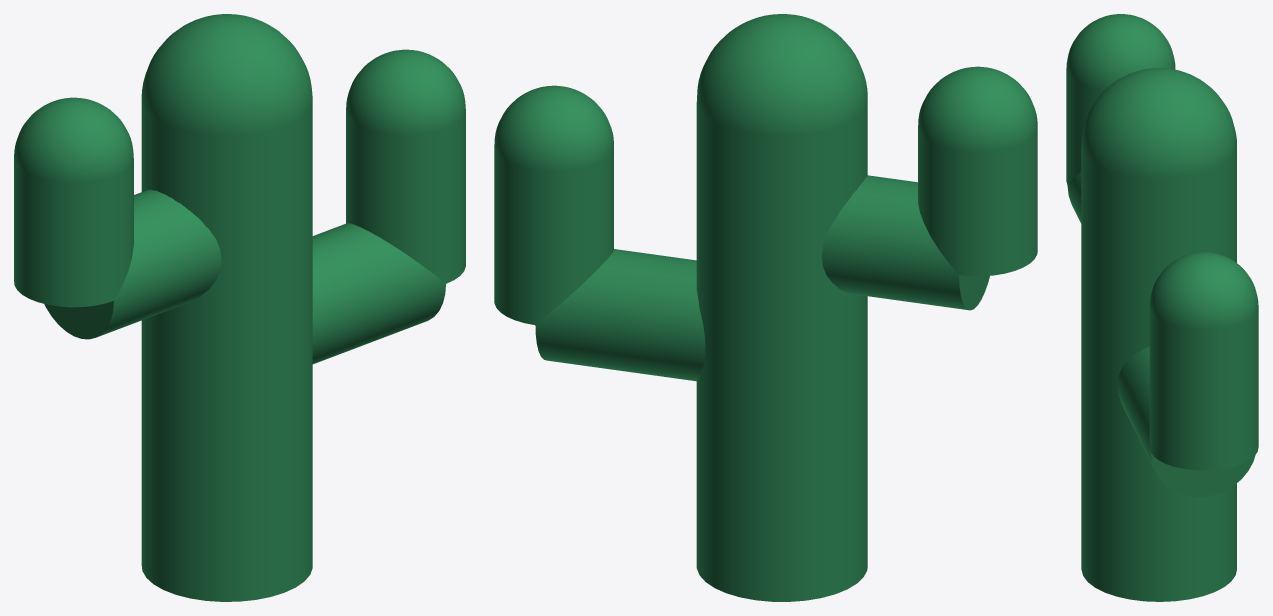
The model's file is cactus.glb.
3 views of the same model, side by side, from view 1: azimuth 30°, elevation 25°; view 2: azimuth 150°, elevation 25°; view 3: azimuth 270°, elevation 25° (orthographic). The views are drawn at different scales.
Bounding box in the file's own units: 3.24 × 3.5 × 1.23.
